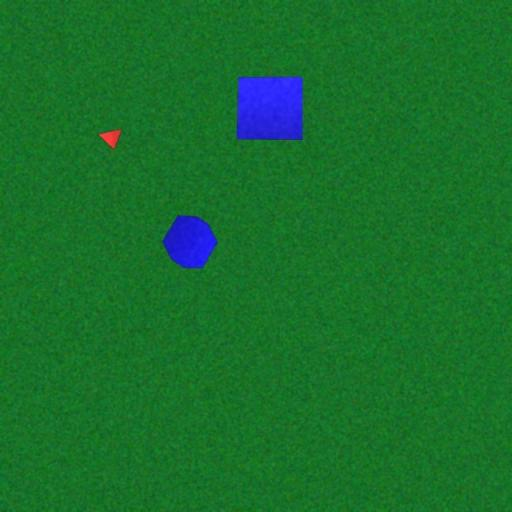BLUE_SQUARE: (236, 77, 303, 140)
